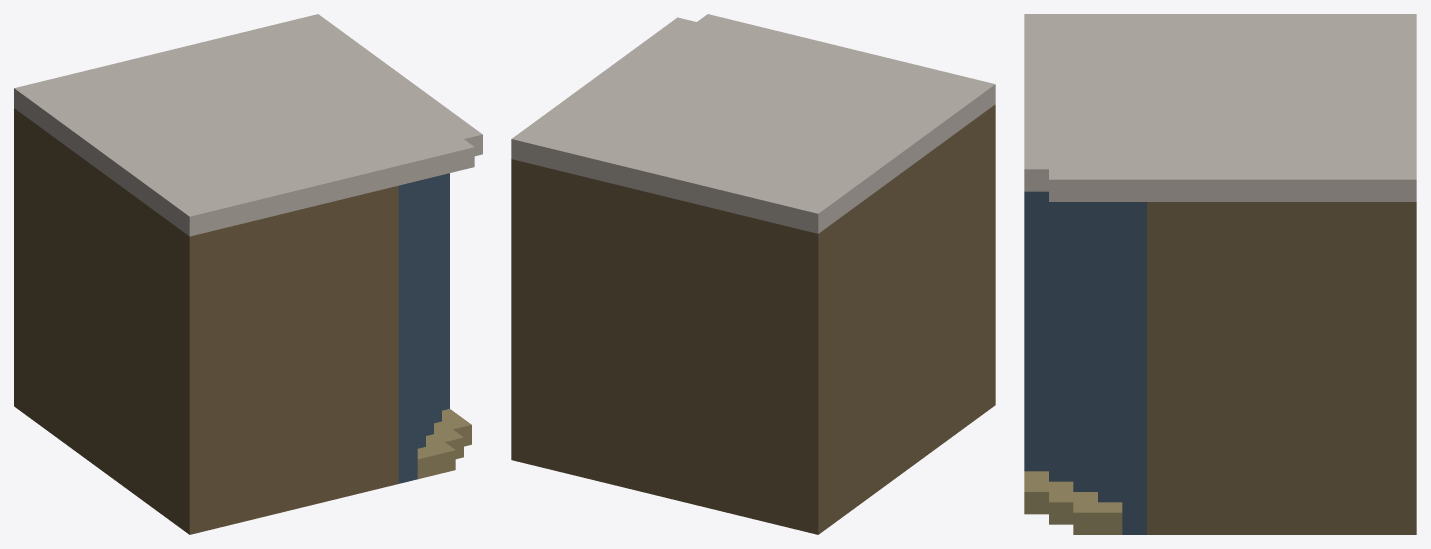
File: CounterCornerIn1.obj
The picture shows the model from 3 angles, left to right: view 1: azimuth 30°, elevation 25°; view 2: azimuth 150°, elevation 25°; view 3: azimuth 270°, elevation 25°; orthographic projection. The views are drawn at different scales.
Parts seen in each view (by area): view 1: CounterCornerIn1; view 2: CounterCornerIn1; view 3: CounterCornerIn1.
Boxes of the visible parts, x1,y1,x2,y2 form: CounterCornerIn1: [14, 14, 482, 534]; CounterCornerIn1: [511, 14, 995, 534]; CounterCornerIn1: [1024, 14, 1416, 534].
Size of the model in its own units: 16 by 16 by 16.
1 material, 1 textured.
